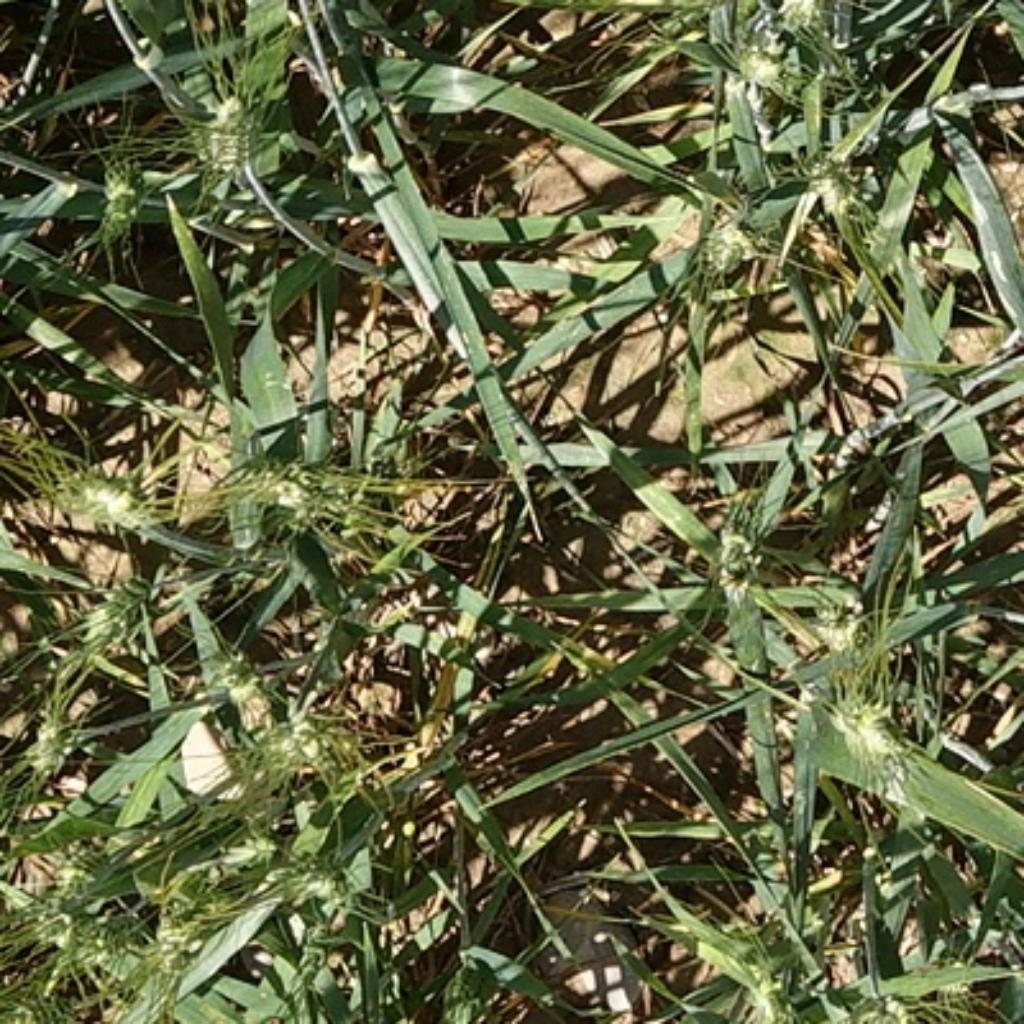0-0: (220, 686, 368, 793), (231, 834, 367, 924), (816, 673, 931, 772), (229, 443, 351, 526), (696, 506, 780, 614), (15, 880, 115, 967), (49, 460, 158, 535), (79, 555, 171, 642), (798, 132, 887, 220), (192, 627, 276, 714), (845, 964, 958, 1024), (92, 143, 163, 238), (186, 86, 262, 172), (711, 28, 796, 102), (801, 599, 888, 665), (686, 199, 757, 273), (25, 696, 92, 770), (772, 0, 839, 32), (683, 0, 760, 5)
